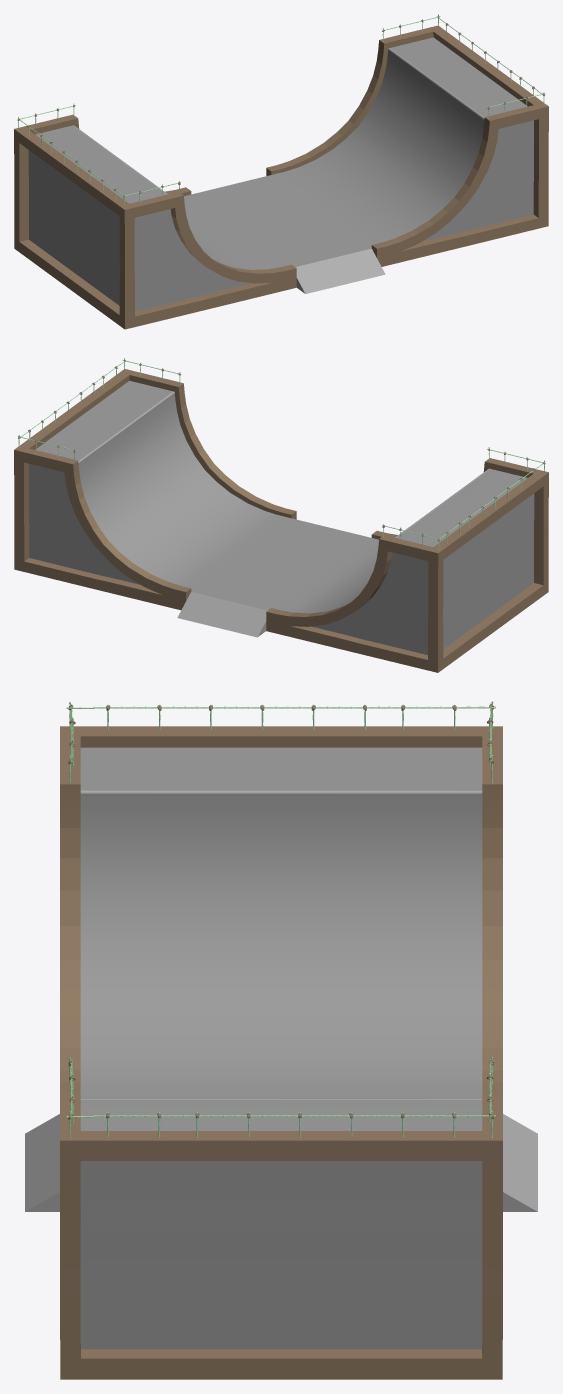
The model's file is half_pipe 1.fbx.
3 renders of one model, top to bottom at view 1: azimuth 30°, elevation 25°; view 2: azimuth 150°, elevation 25°; view 3: azimuth 270°, elevation 25°, orthographic. The views are drawn at different scales.
Parts seen in each view (by area): view 1: half_pipe_final; view 2: half_pipe_final; view 3: half_pipe_final, bamboo_railing_09, bamboo_railing_010.
Boxes of the visible parts, x1,y1,x2,y2 form: half_pipe_final: [14, 25, 548, 329]; half_pipe_final: [14, 369, 548, 672]; half_pipe_final: [25, 726, 537, 1379]; bamboo_railing_09: [94, 704, 467, 729]; bamboo_railing_010: [94, 1112, 467, 1137].
Bounding box in the file's own units: 4080 × 1224 × 2137.
